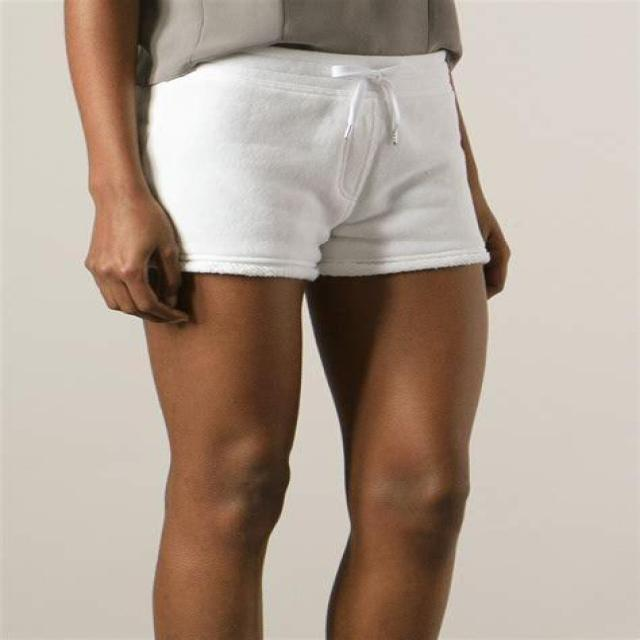short: (140, 46, 489, 280)
